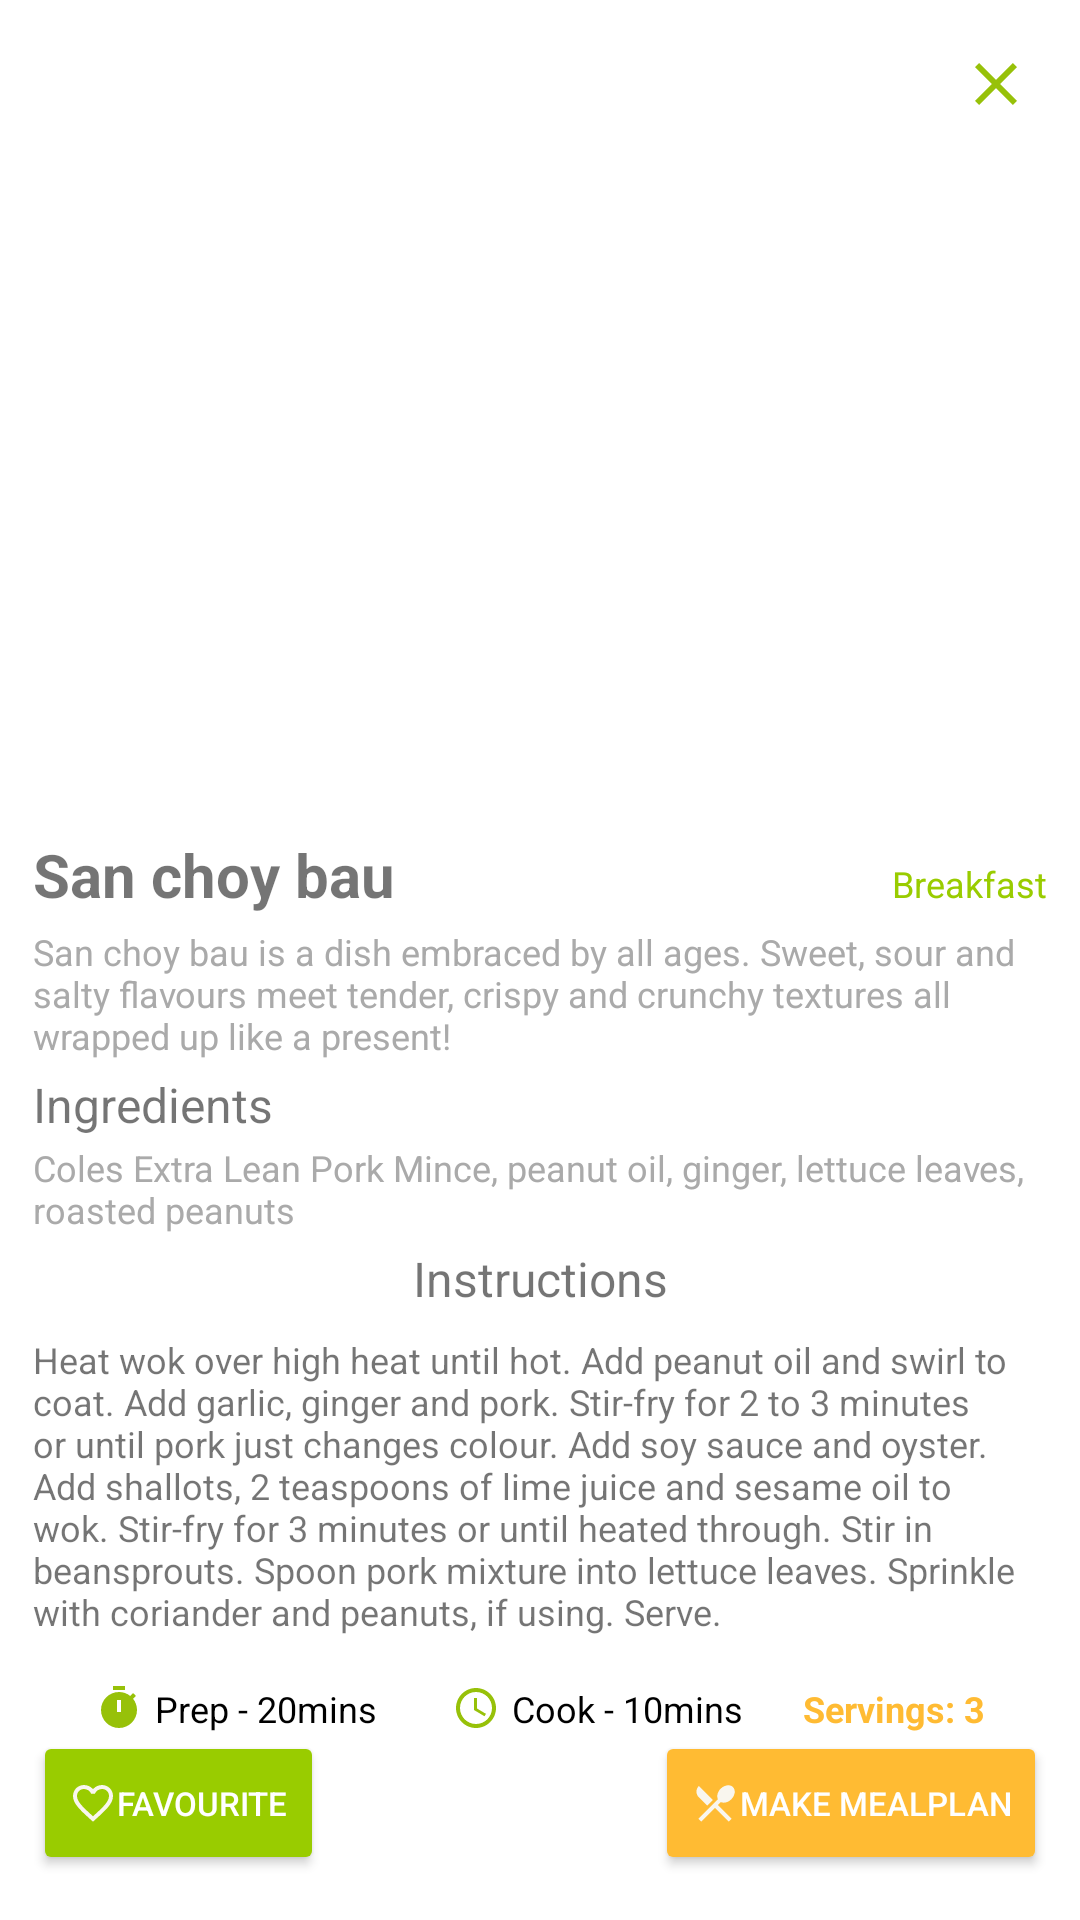

Where to tap for icons on this 1080 x 1920 app screen, as point (x, y):
close: point (996, 84)
timegreen: point (476, 1708)
timer: point (119, 1707)
